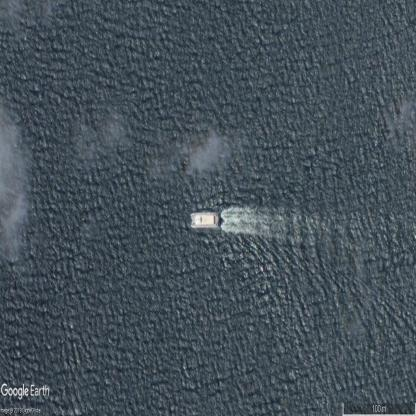ship: (191, 212, 219, 229)
